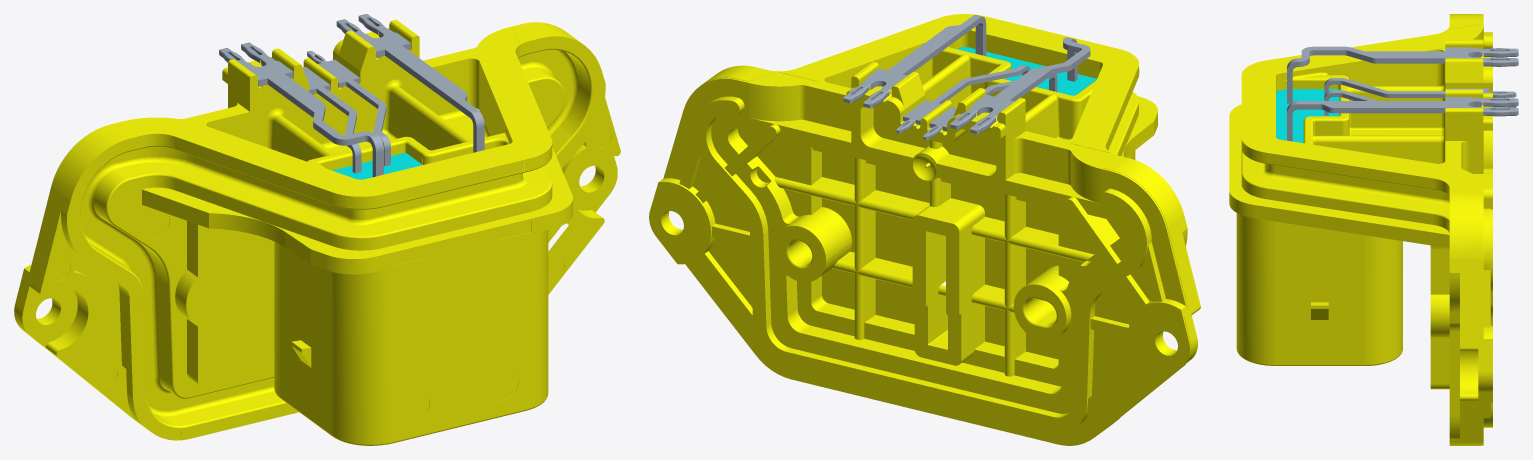
Rendered from connector.glb.
The picture shows the model from 3 angles, left to right: view 1: azimuth 30°, elevation 25°; view 2: azimuth 150°, elevation 25°; view 3: azimuth 270°, elevation 25°; orthographic projection. The views are drawn at different scales.
Visible parts, largest first — view 1: 主体外壳, 端子 A, 端子 B, 端子 D, 端子 C, 密封件; view 2: 主体外壳, 端子 B, 端子 A, 端子 D, 密封件, 端子 C; view 3: 主体外壳, 端子 A, 端子 B, 密封件, 端子 C, 端子 D.
Part boxes in pixels (x1,y1,x2,y2): 主体外壳: (14, 19, 620, 445); 端子 A: (219, 42, 383, 177); 端子 B: (336, 14, 484, 152); 端子 D: (307, 51, 390, 166); 端子 C: (303, 67, 361, 173); 密封件: (332, 153, 422, 179); 主体外壳: (649, 14, 1200, 445); 端子 B: (843, 15, 986, 108); 端子 A: (950, 37, 1090, 134); 端子 D: (896, 65, 1030, 133); 密封件: (957, 47, 1096, 95); 端子 C: (923, 74, 1057, 139); 主体外壳: (1229, 14, 1492, 445); 端子 A: (1287, 46, 1518, 103); 端子 B: (1287, 97, 1518, 141); 密封件: (1276, 89, 1339, 143); 端子 C: (1324, 78, 1516, 97); 端子 D: (1324, 90, 1516, 115).
Size of the model in its own units: 81.1 by 45.55 by 39.45.
